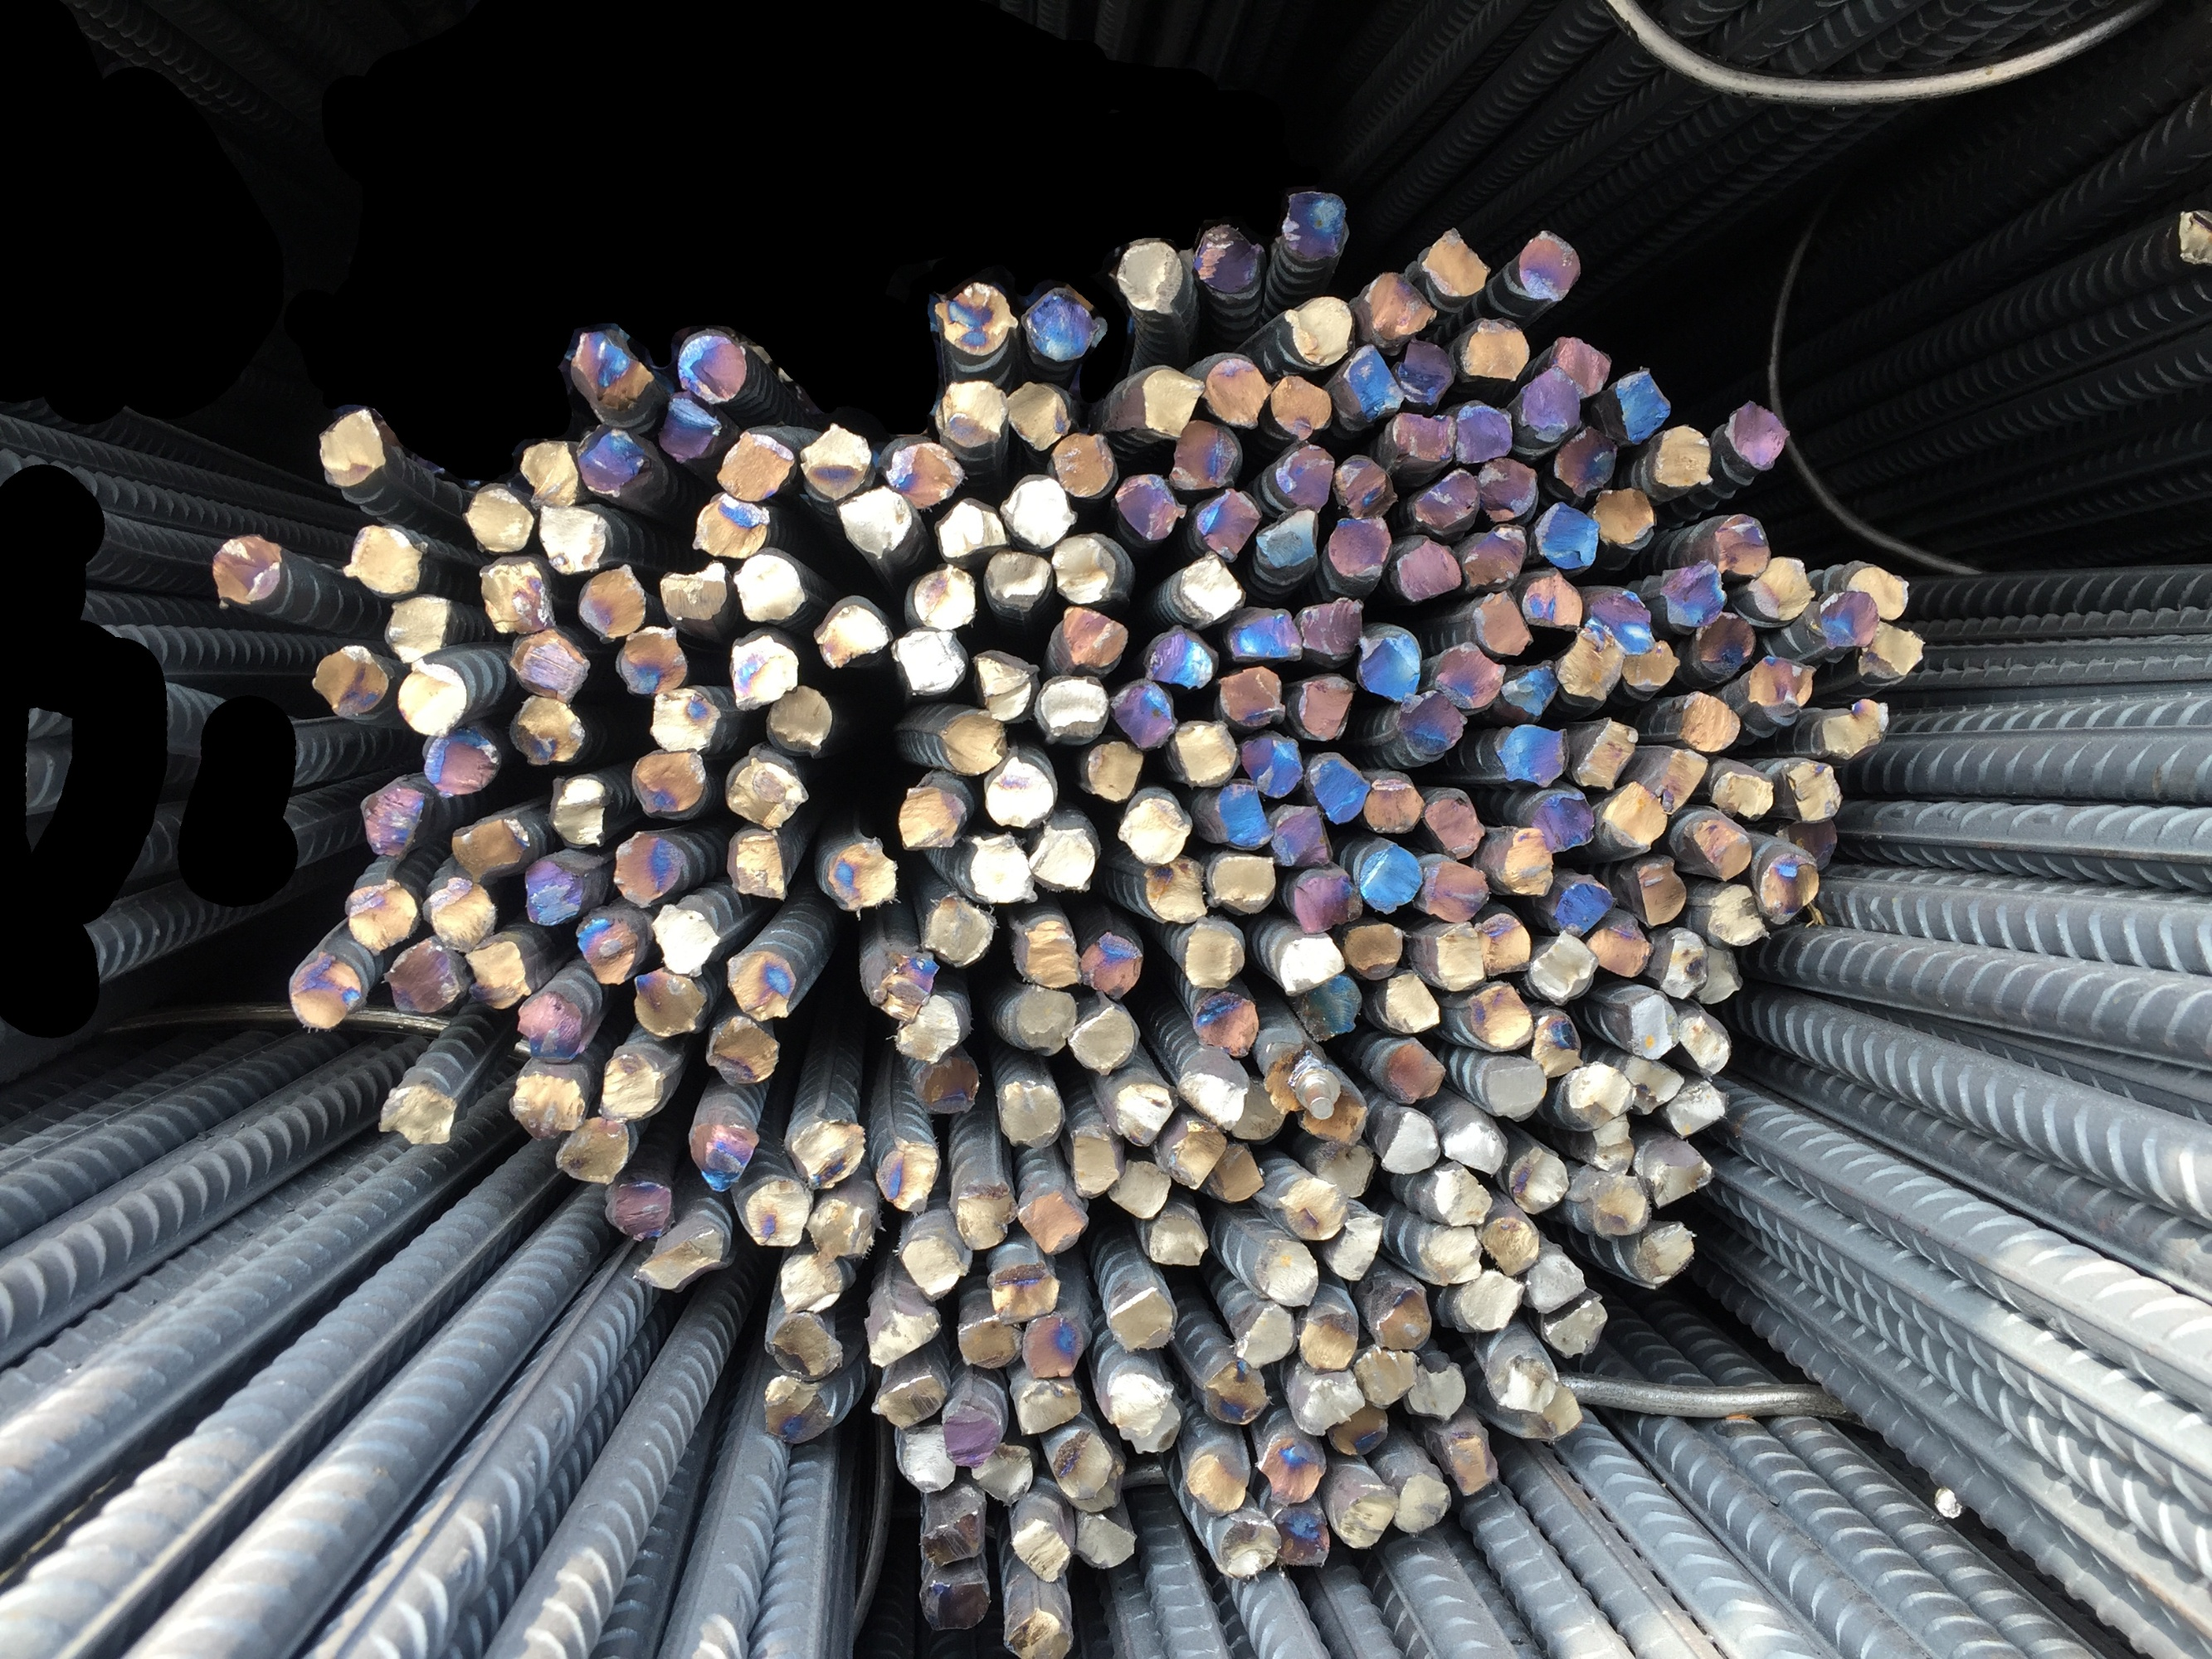rebar: (568, 326, 659, 422), (723, 748, 811, 829), (673, 324, 760, 404), (933, 281, 1020, 361), (638, 1222, 729, 1297), (476, 554, 558, 636), (1715, 397, 1792, 484), (383, 936, 464, 1018), (762, 1307, 849, 1382), (1020, 284, 1100, 364), (340, 519, 424, 596), (377, 1075, 462, 1150), (1382, 692, 1468, 767), (286, 948, 363, 1030), (506, 1063, 587, 1140), (553, 1110, 634, 1187), (610, 826, 687, 908), (715, 423, 797, 500), (880, 430, 962, 507), (1001, 469, 1077, 551), (811, 592, 892, 669), (727, 629, 802, 713), (316, 406, 389, 491), (507, 629, 593, 702), (1555, 622, 1628, 708), (730, 547, 809, 626), (573, 423, 652, 502), (392, 657, 469, 737), (723, 945, 804, 1021), (889, 626, 969, 702), (981, 751, 1062, 828), (1675, 805, 1752, 885), (209, 532, 284, 613), (783, 1117, 865, 1192), (798, 418, 873, 500), (1116, 366, 1203, 436), (310, 643, 389, 720), (838, 486, 917, 563), (1168, 552, 1246, 629), (1508, 227, 1586, 303), (704, 1014, 784, 1089), (655, 556, 730, 636), (458, 479, 539, 554), (1177, 1047, 1250, 1129), (1510, 366, 1581, 450), (807, 1185, 884, 1262), (648, 901, 725, 978), (685, 1115, 760, 1194), (359, 779, 431, 861), (1260, 1033, 1330, 1117), (919, 892, 994, 969), (1196, 352, 1271, 429), (1741, 653, 1818, 728), (342, 878, 420, 951), (826, 836, 899, 915), (863, 943, 936, 1021), (959, 835, 1037, 908), (631, 751, 711, 823), (507, 695, 587, 767), (577, 563, 648, 643), (1754, 843, 1822, 927), (418, 730, 504, 796), (422, 875, 497, 950), (596, 1046, 669, 1122), (760, 1373, 837, 1446), (1008, 911, 1081, 988), (1639, 1136, 1715, 1209), (690, 488, 769, 559), (997, 985, 1075, 1056), (1117, 791, 1196, 863), (1415, 227, 1494, 298), (537, 504, 617, 573), (1422, 775, 1487, 861), (896, 1227, 969, 1302), (1684, 610, 1757, 685), (723, 824, 795, 901), (1069, 1000, 1140, 1077), (1184, 1439, 1255, 1516), (1621, 1222, 1698, 1293), (969, 647, 1039, 725), (1051, 533, 1130, 603), (1285, 866, 1363, 936), (1649, 561, 1727, 631), (573, 904, 641, 985), (450, 812, 530, 880), (1255, 504, 1321, 586), (936, 378, 1009, 451), (1189, 486, 1262, 559), (1281, 293, 1354, 366), (1607, 359, 1670, 444), (518, 990, 589, 1065), (1116, 240, 1187, 315), (892, 992, 967, 1063), (865, 1295, 940, 1366), (1255, 1429, 1327, 1504), (1597, 779, 1668, 854), (631, 969, 708, 1039), (931, 706, 1008, 775), (1358, 272, 1435, 342), (744, 1173, 812, 1251), (875, 1136, 943, 1215), (1515, 788, 1597, 852), (614, 624, 687, 695), (1279, 188, 1351, 261), (1103, 1279, 1175, 1352), (1112, 472, 1185, 544), (1527, 931, 1598, 1004), (1198, 779, 1272, 849), (1429, 641, 1504, 711), (1330, 1474, 1398, 1551), (1455, 983, 1532, 1051), (901, 563, 980, 629), (547, 770, 612, 850), (1306, 746, 1370, 826), (1813, 697, 1893, 762), (1799, 591, 1879, 655), (1689, 514, 1771, 577), (380, 592, 451, 664), (1192, 223, 1264, 295), (1008, 378, 1079, 450), (1391, 533, 1462, 605), (1605, 986, 1677, 1058), (655, 389, 725, 462), (1028, 821, 1098, 894), (1171, 420, 1245, 490), (1323, 518, 1393, 591), (1562, 1063, 1635, 1133), (1110, 1075, 1178, 1150), (1131, 856, 1208, 922), (1297, 594, 1363, 671), (1354, 627, 1421, 704), (1272, 1176, 1349, 1243), (1492, 723, 1569, 789), (1659, 692, 1741, 753), (1018, 1183, 1089, 1253), (995, 1077, 1065, 1148), (1177, 918, 1246, 990), (1189, 988, 1260, 1058), (1353, 840, 1422, 911), (1485, 826, 1555, 897), (896, 782, 969, 850), (920, 1492, 988, 1565), (1004, 1509, 1072, 1582), (1372, 1037, 1445, 1105), (1365, 1281, 1433, 1354), (1473, 1054, 1546, 1122), (933, 497, 1008, 563), (1035, 674, 1110, 741), (1572, 716, 1639, 791), (648, 687, 725, 751), (983, 549, 1053, 619), (1171, 718, 1241, 788), (603, 1176, 675, 1244), (769, 683, 837, 755), (1265, 375, 1337, 443), (1410, 467, 1478, 538), (1422, 1161, 1494, 1229), (1459, 521, 1530, 589), (1858, 620, 1926, 692), (1204, 849, 1278, 915), (1337, 345, 1403, 418), (1206, 1514, 1279, 1581), (1452, 1270, 1525, 1337), (777, 1249, 852, 1314), (1459, 592, 1534, 657), (1555, 425, 1619, 500), (518, 434, 580, 511), (1081, 924, 1143, 1000), (1269, 931, 1346, 993), (1832, 556, 1909, 619), (1327, 1204, 1386, 1284), (1110, 678, 1178, 748), (1461, 315, 1530, 383), (1288, 673, 1358, 741), (1440, 1107, 1508, 1176), (1248, 1239, 1318, 1307), (1581, 1171, 1651, 1239), (1698, 882, 1766, 951), (1640, 744, 1708, 814), (920, 1568, 992, 1635), (1238, 728, 1304, 800), (1292, 974, 1363, 1040), (1539, 1293, 1611, 1359), (1504, 1143, 1571, 1215), (1055, 606, 1128, 671), (1583, 587, 1656, 652), (1625, 856, 1689, 929), (872, 1366, 947, 1429), (1227, 605, 1304, 666), (1778, 755, 1846, 823), (1100, 1366, 1170, 1432), (1157, 1122, 1227, 1188), (1269, 1502, 1333, 1574), (1048, 1425, 1110, 1499), (1215, 667, 1288, 730), (1438, 1427, 1501, 1500), (1267, 444, 1335, 511), (1203, 1359, 1271, 1425), (1421, 856, 1489, 922), (1591, 486, 1659, 552), (1534, 502, 1600, 570), (1644, 427, 1712, 493), (1227, 1302, 1297, 1366), (1544, 871, 1614, 936), (467, 939, 530, 1011), (1143, 626, 1217, 687), (1299, 1300, 1360, 1373), (1529, 1004, 1590, 1077), (1382, 411, 1457, 471), (1333, 453, 1400, 519), (1293, 1368, 1360, 1434), (1710, 755, 1776, 821), (1051, 432, 1119, 497), (940, 1398, 1004, 1466), (967, 1441, 1035, 1506), (955, 1182, 1020, 1249), (1421, 922, 1485, 990), (1748, 554, 1813, 622), (523, 857, 586, 927), (1511, 1382, 1581, 1445), (1539, 336, 1611, 397), (988, 1263, 1063, 1321), (1476, 903, 1534, 978), (1001, 1603, 1077, 1659), (1522, 1249, 1588, 1314), (1476, 458, 1541, 525), (1618, 1054, 1684, 1119), (915, 1054, 983, 1117), (1072, 1511, 1140, 1574), (1583, 915, 1651, 978), (1394, 336, 1455, 406), (1379, 1105, 1440, 1175), (1677, 1002, 1731, 1080), (1299, 1086, 1370, 1145), (1269, 803, 1333, 868), (1023, 1312, 1086, 1378), (1379, 969, 1442, 1035), (1520, 566, 1583, 633), (1107, 1159, 1175, 1220), (1069, 1122, 1123, 1199), (1393, 1466, 1452, 1535), (892, 1429, 957, 1492), (1452, 399, 1515, 464), (1356, 1344, 1417, 1410), (1489, 1352, 1555, 1413), (1363, 769, 1424, 835), (953, 1314, 1021, 1373), (1415, 1225, 1483, 1284), (1143, 1213, 1213, 1270), (1014, 1380, 1086, 1436), (1652, 927, 1708, 999), (1313, 1140, 1377, 1201), (1405, 1358, 1466, 1422), (1774, 812, 1841, 871), (1480, 1211, 1541, 1274), (1079, 741, 1143, 800), (1204, 1140, 1264, 1204), (1339, 920, 1405, 978), (1663, 1080, 1729, 1138), (1231, 1075, 1286, 1143), (1501, 657, 1558, 721), (1123, 1398, 1185, 1455), (1621, 640, 1682, 695), (1327, 1401, 1389, 1455), (1583, 1114, 1635, 1176), (1698, 941, 1743, 1007), (1065, 1462, 1124, 1513)
